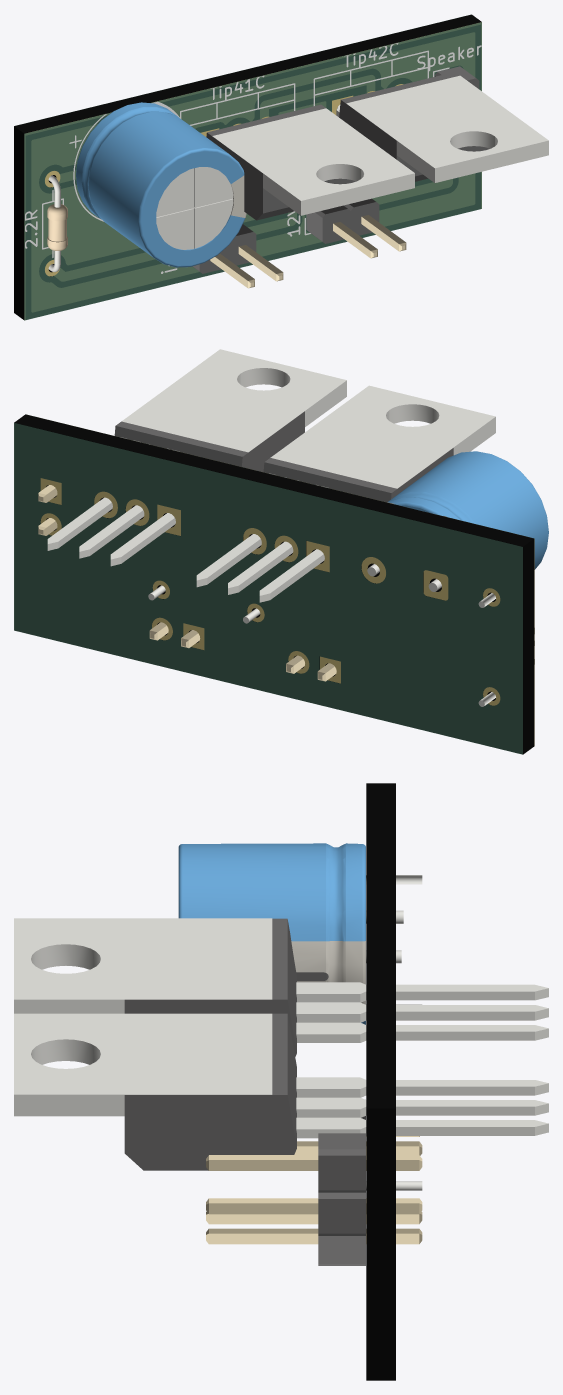
The model's file is Tip41-42 amplifier.glb.
3 views of the same model, one above another, from view 1: azimuth 30°, elevation 25°; view 2: azimuth 150°, elevation 25°; view 3: azimuth 270°, elevation 25° (orthographic). The views are drawn at different scales.
Parts seen in each view (by area): view 1: Shape (×32); view 2: Shape (×22); view 3: Shape (×38).
Part boxes in pixels (x1=…): Shape (×32): x1=14, y1=14, x2=548, y2=320; Shape (×22): x1=14, y1=349, x2=548, y2=754; Shape (×38): x1=14, y1=783, x2=548, y2=1380.
Size of the model in its own units: 0.041 by 0.0164 by 0.0285.
